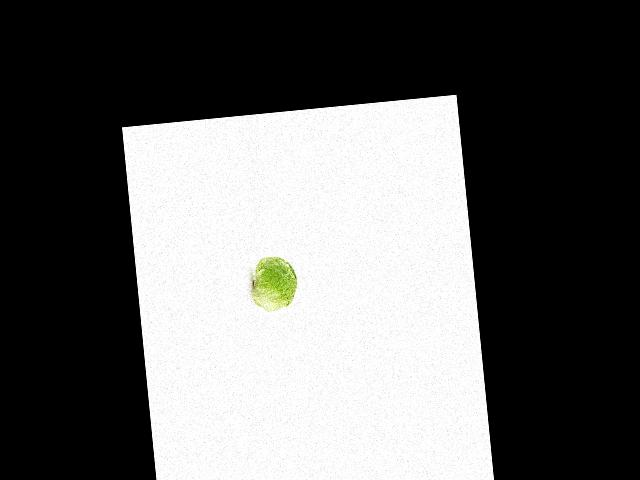lettuce: (251, 247, 301, 313)
